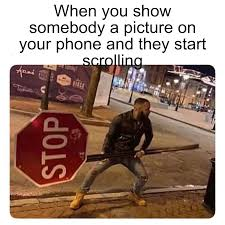stop sign: (15, 112, 89, 186)
